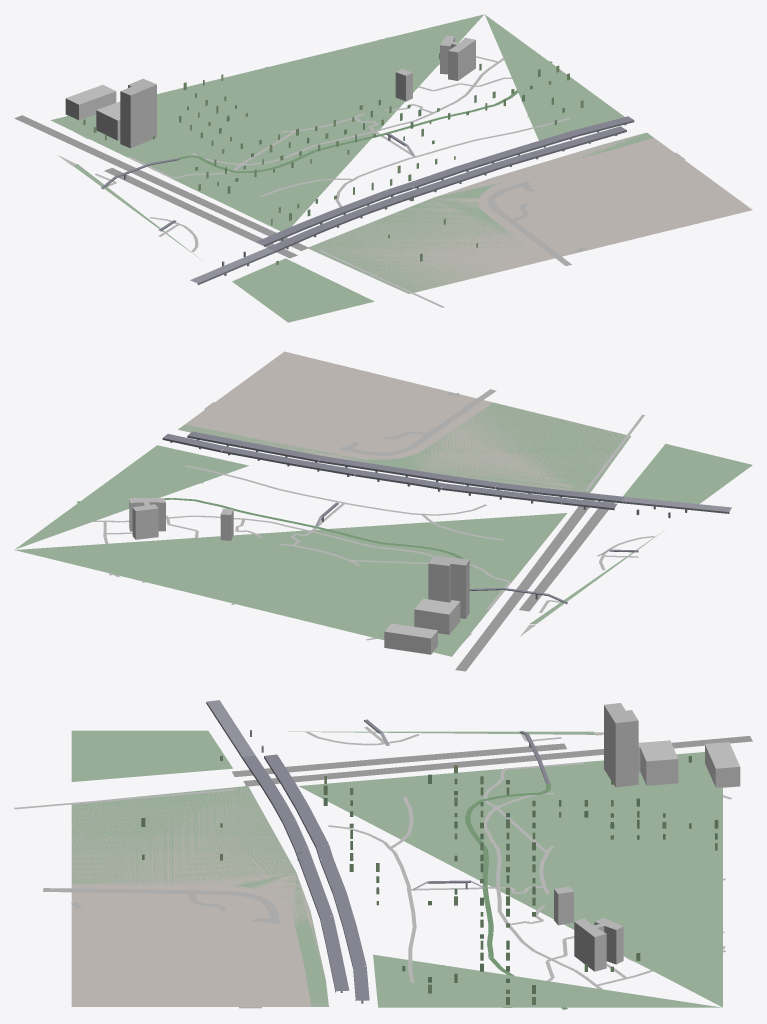
3 views of the same model, one above another, from view 1: azimuth 30°, elevation 25°; view 2: azimuth 150°, elevation 25°; view 3: azimuth 270°, elevation 25° (orthographic). The views are drawn at different scales.
Bounding box in the file's own units: 543 × 55.09 × 567.
